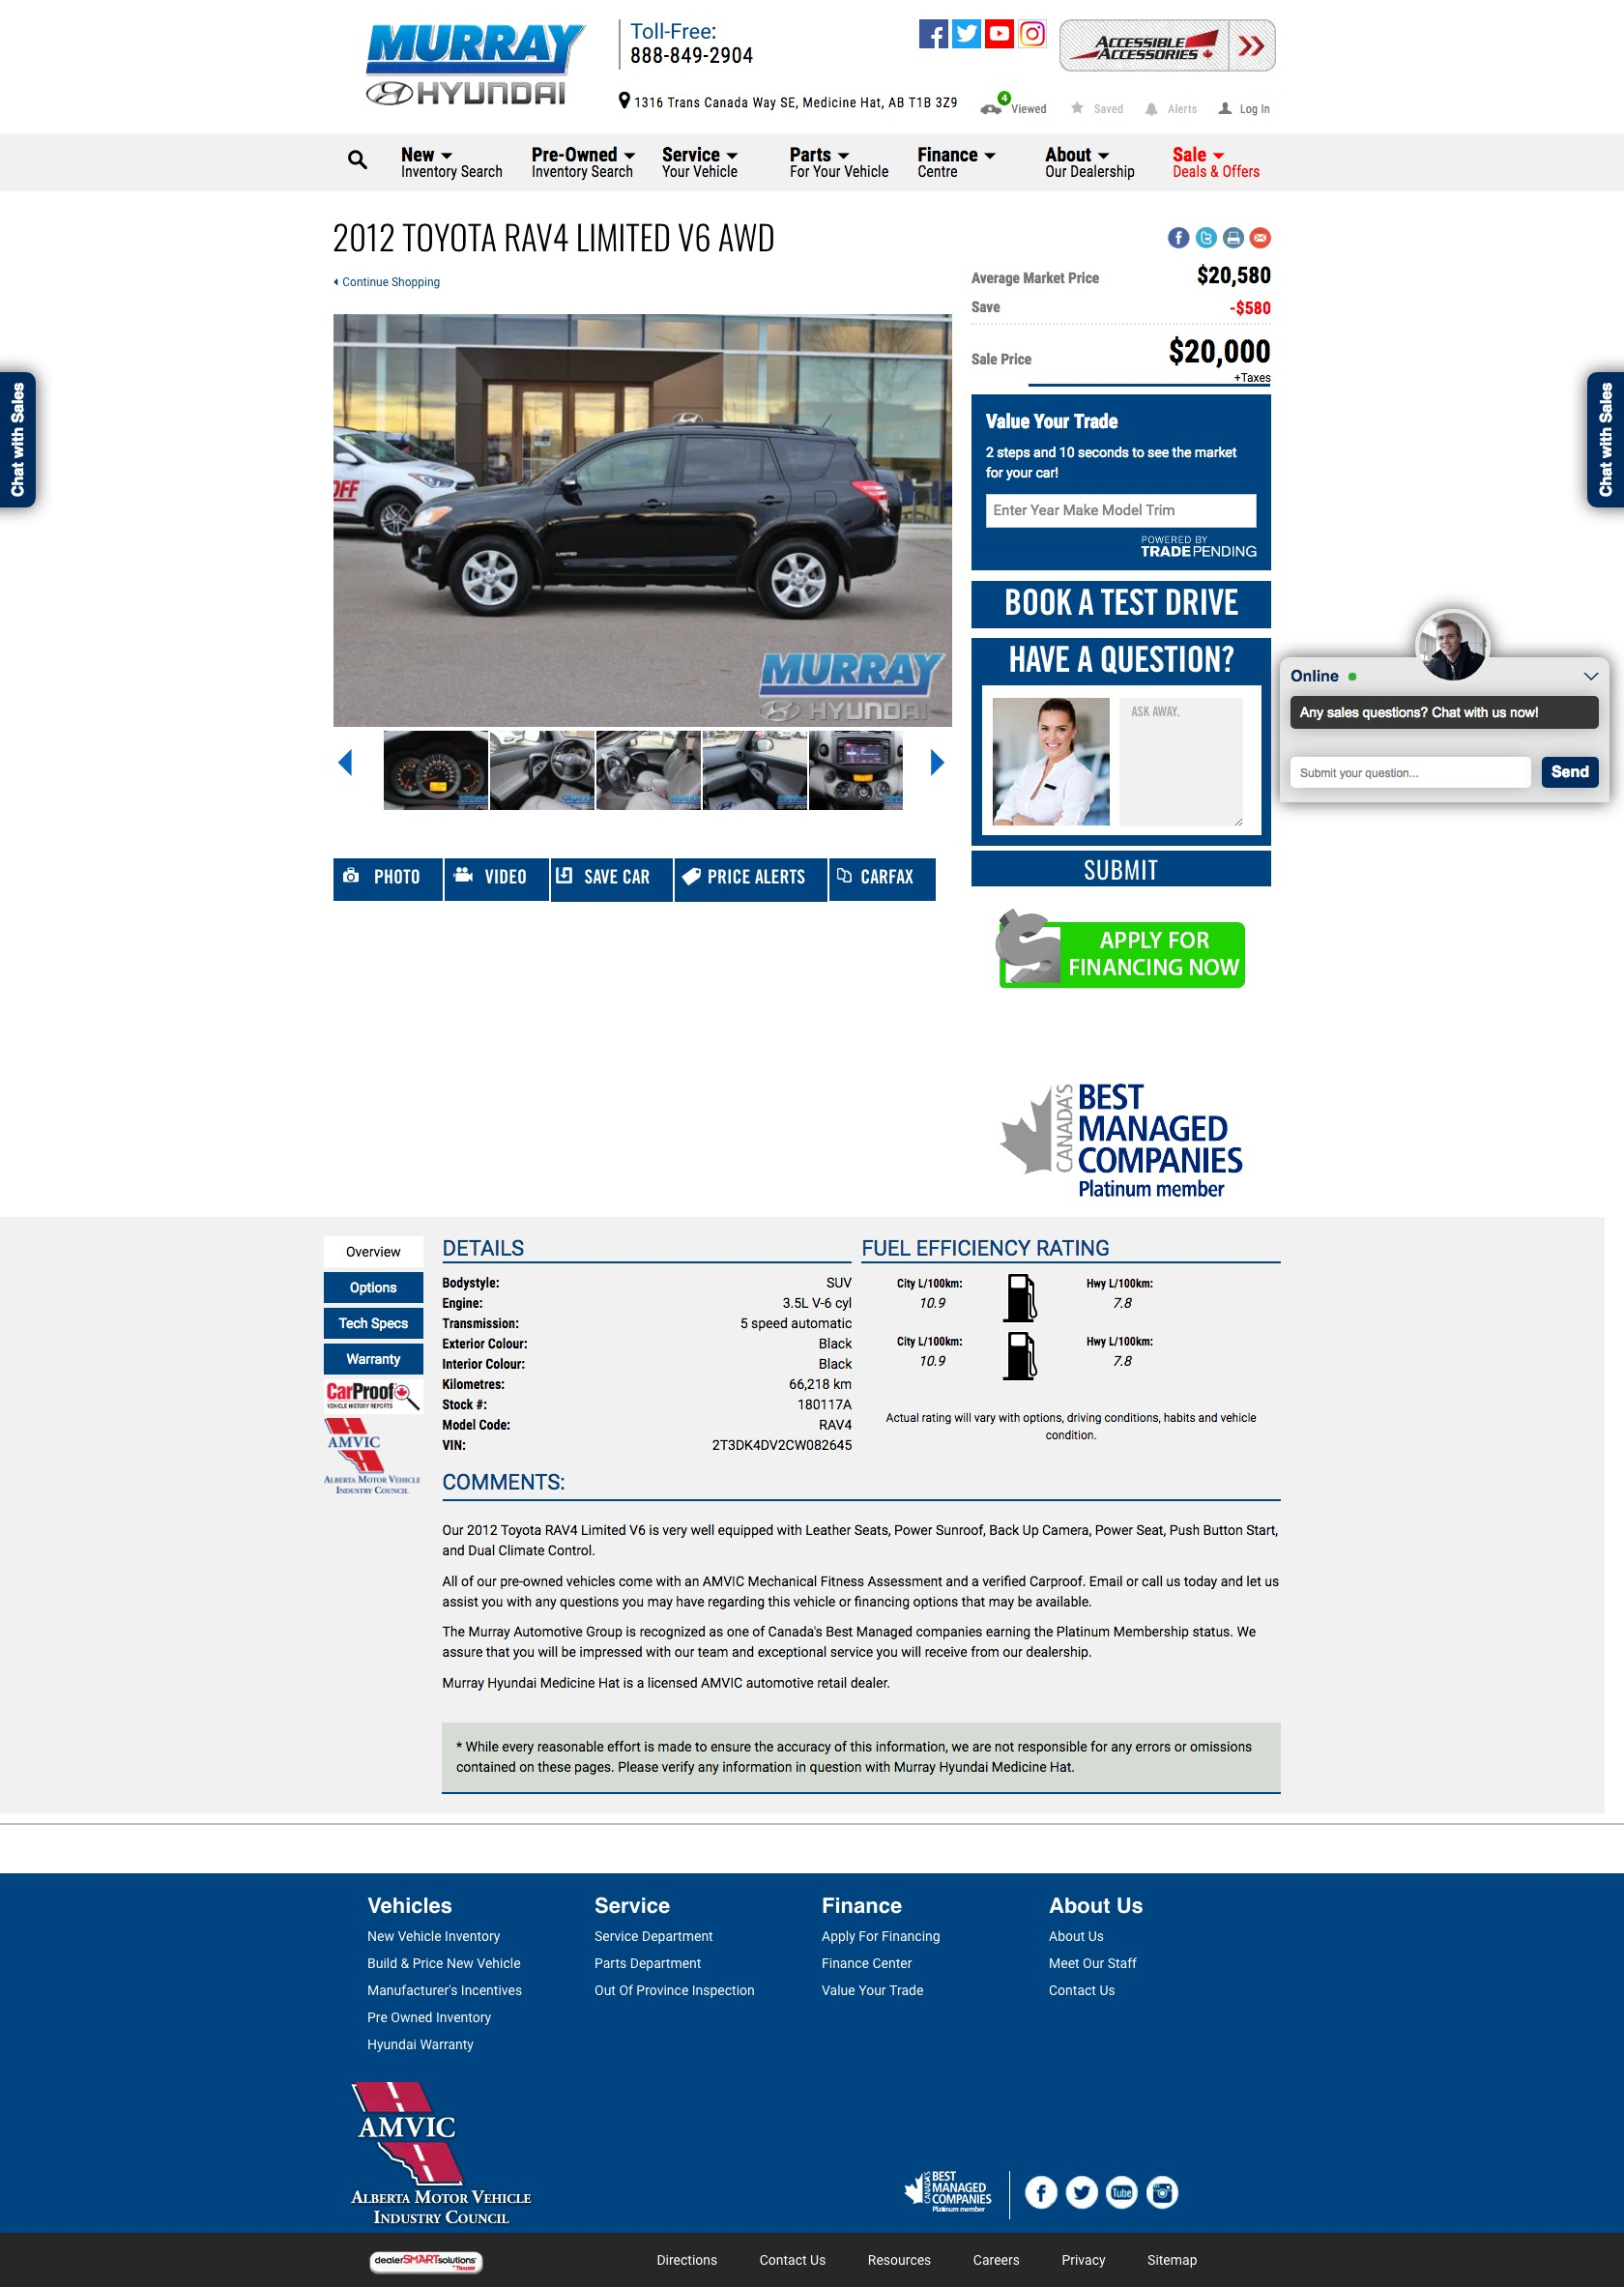car: (928, 745, 947, 780)
